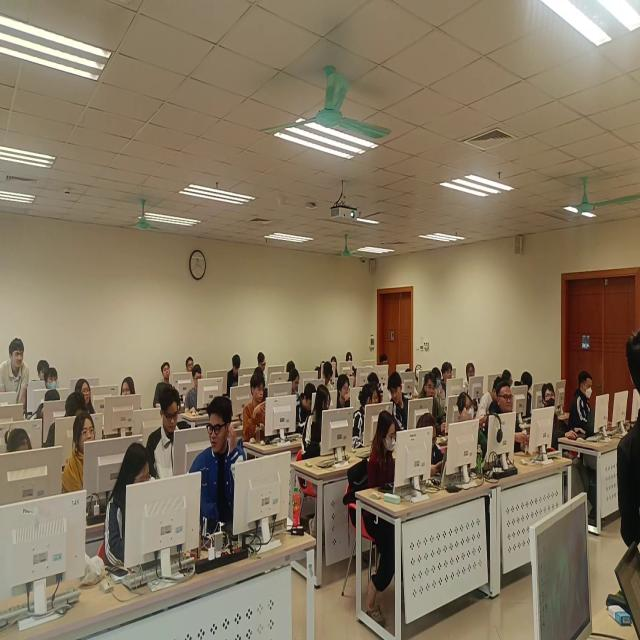raise_head: (486, 385, 532, 457), (62, 411, 97, 498), (457, 392, 490, 469), (540, 383, 579, 443), (422, 373, 448, 437), (151, 362, 175, 410), (76, 373, 98, 417), (44, 367, 61, 395), (443, 360, 457, 394), (35, 358, 52, 385), (465, 362, 476, 394), (415, 362, 425, 394), (346, 350, 357, 373), (185, 356, 196, 374)
stand: (1, 333, 34, 411)
using_computer: (144, 385, 184, 486), (367, 408, 399, 491), (302, 383, 333, 463), (568, 369, 595, 431), (29, 389, 64, 428), (2, 426, 36, 461), (184, 363, 206, 415), (477, 376, 503, 418), (296, 382, 316, 436), (517, 371, 535, 417), (225, 356, 242, 397), (433, 367, 448, 410), (336, 373, 353, 409), (257, 350, 271, 389), (324, 357, 338, 392), (289, 368, 302, 399), (378, 350, 391, 371), (368, 371, 383, 388), (503, 367, 514, 389), (331, 354, 340, 379), (285, 359, 299, 375), (315, 357, 324, 380), (374, 386, 382, 408), (255, 363, 265, 378), (405, 366, 413, 376)
using_phone: (415, 412, 447, 477), (243, 367, 268, 443)
